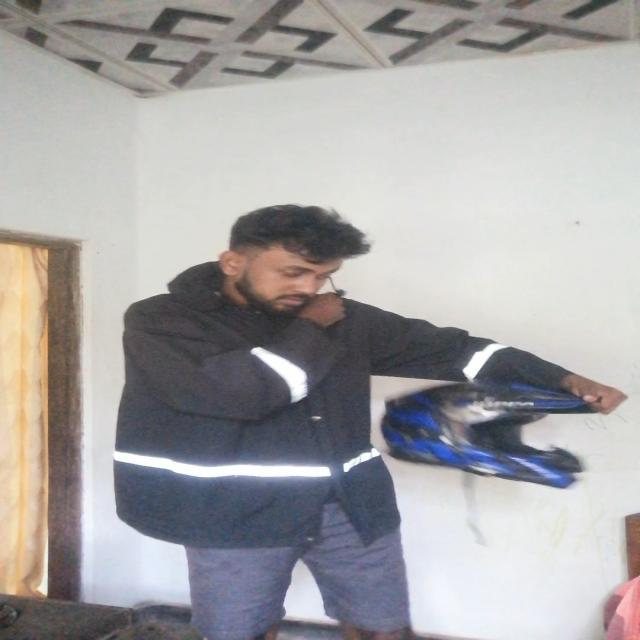Jacket_Wearer: (116, 285, 588, 539)
Person: (121, 203, 541, 640)
